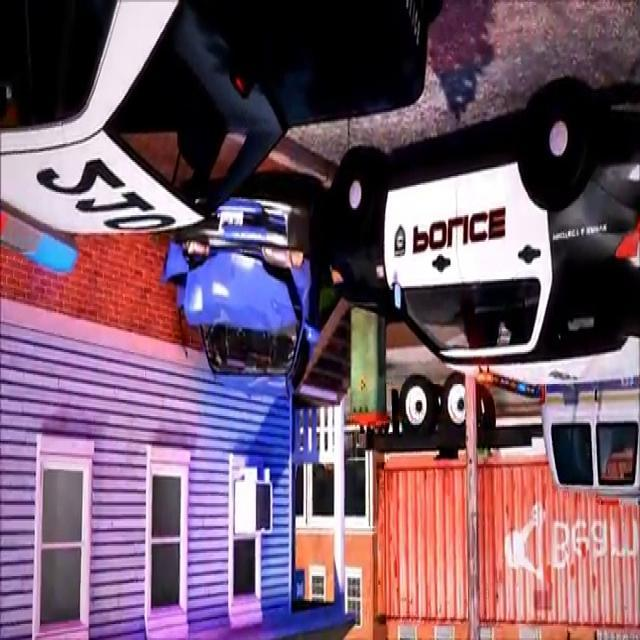moderate: (157, 81, 640, 412)
